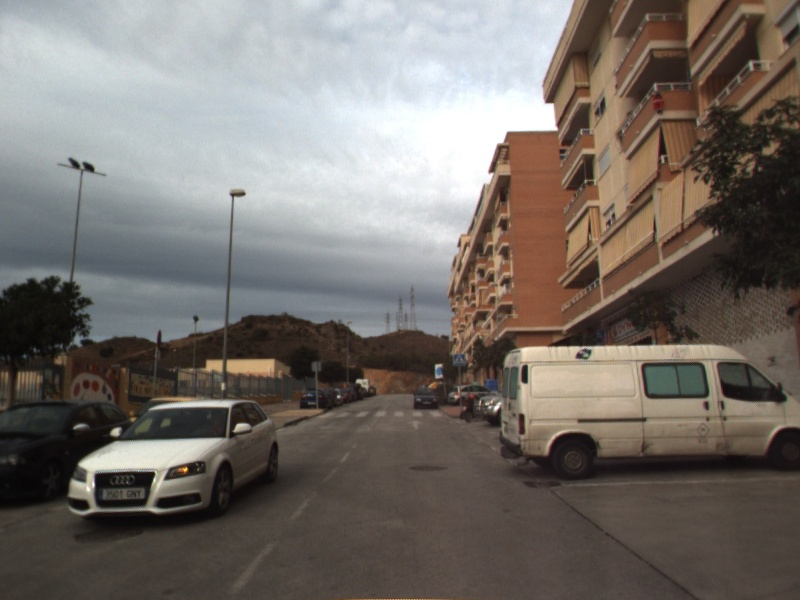STRAIGHT: (405, 417, 426, 431)
